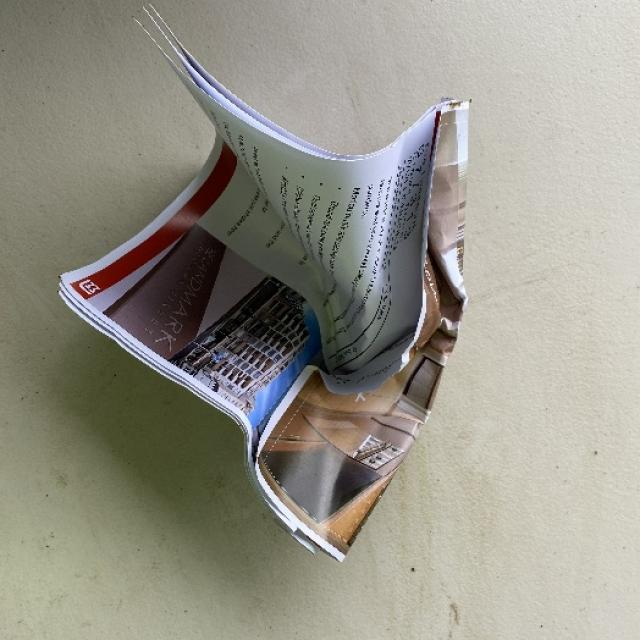paper: (57, 3, 469, 560)
